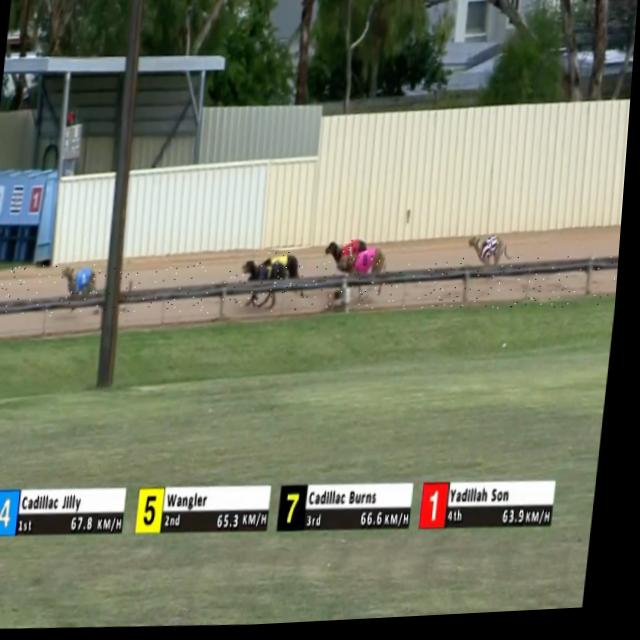dog_eight: (361, 254, 377, 279)
dog_five: (270, 253, 295, 275)
dog_four: (77, 263, 97, 296)
dog_one: (344, 243, 364, 265)
dog_seven: (262, 265, 281, 288)
dog_two: (486, 240, 503, 266)
rail: (0, 263, 623, 315)
